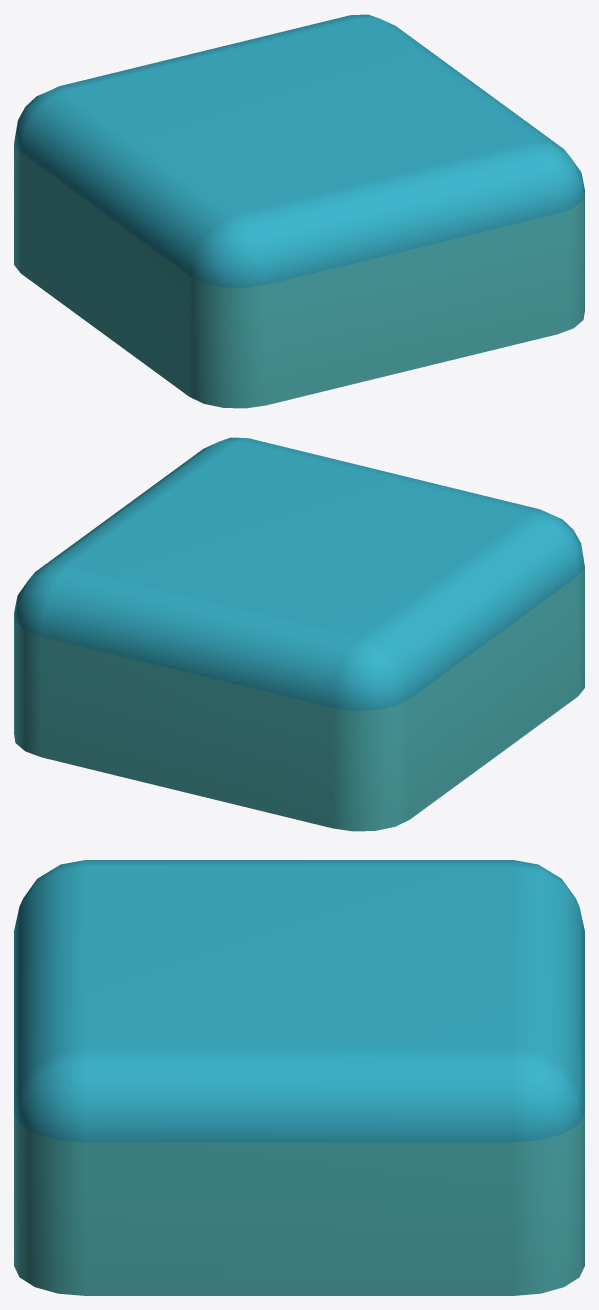
File: PlayerPlatform 1.fbx
The picture shows the model from 3 angles, top to bottom: view 1: azimuth 30°, elevation 25°; view 2: azimuth 150°, elevation 25°; view 3: azimuth 270°, elevation 25°; orthographic projection. The views are drawn at different scales.
Visible parts, largest first — view 1: PlayerPlatform; view 2: PlayerPlatform; view 3: PlayerPlatform.
Part boxes in pixels (x1=…): PlayerPlatform: x1=14, y1=14, x2=584, y2=408; PlayerPlatform: x1=14, y1=437, x2=584, y2=831; PlayerPlatform: x1=14, y1=860, x2=584, y2=1295.
Bounding box in the file's own units: 400 × 169 × 400.
